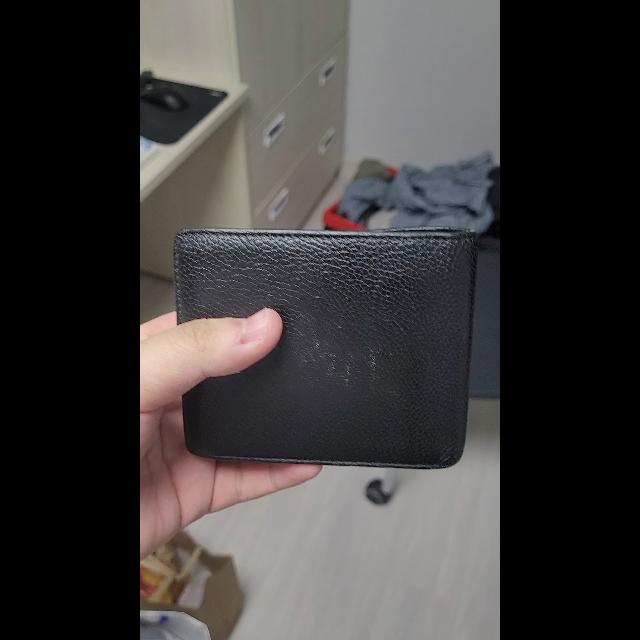WALLET: (174, 226, 478, 469)
